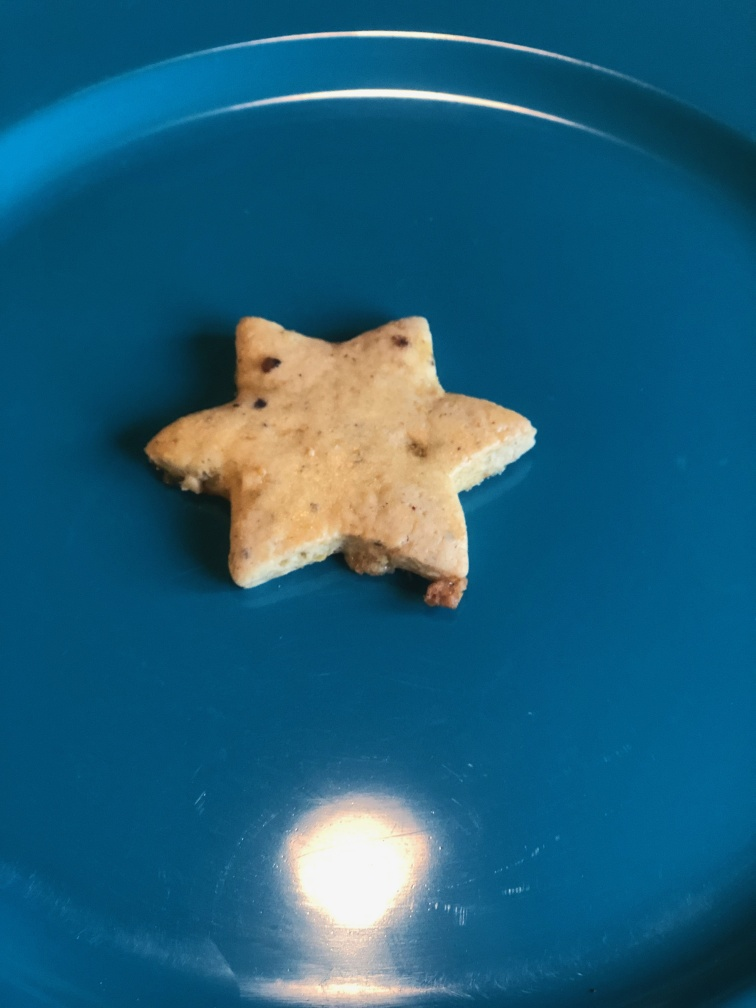star: (145, 307, 535, 612)
